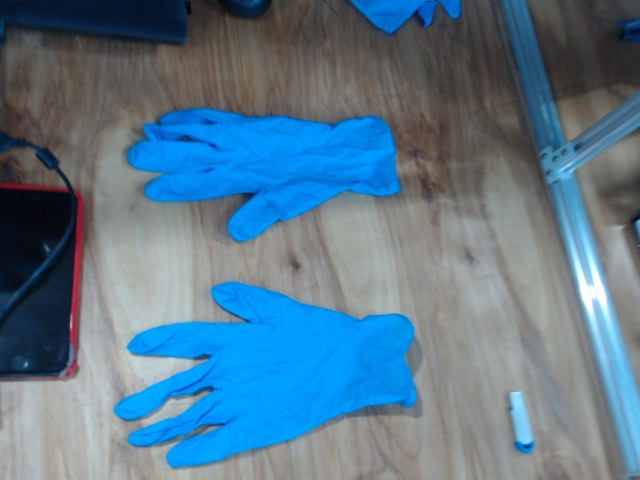medical_glove: (115, 281, 418, 469), (128, 108, 401, 242)
